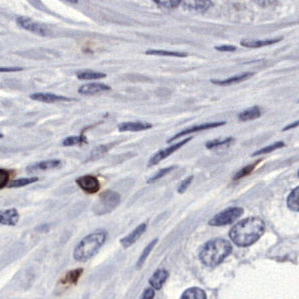Lymphocyte: (75, 175, 103, 194)
